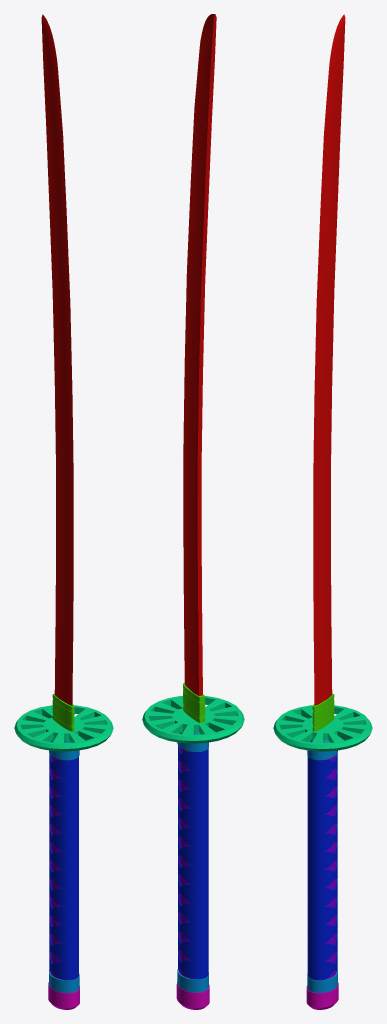
File: Katana.fbx
3 renders of one model, left to right at view 1: azimuth 30°, elevation 25°; view 2: azimuth 210°, elevation 25°; view 3: azimuth 330°, elevation 25°, orthographic. The views are drawn at different scales.
Parts seen in each view (by area): view 1: Katana; view 2: Katana; view 3: Katana.
Part boxes in pixels (x1=…): Katana: x1=14, y1=14, x2=113, y2=1009; Katana: x1=142, y1=14, x2=244, y2=1009; Katana: x1=273, y1=14, x2=372, y2=1009.
Size of the model in its own units: 11.27 by 122 by 11.27.
